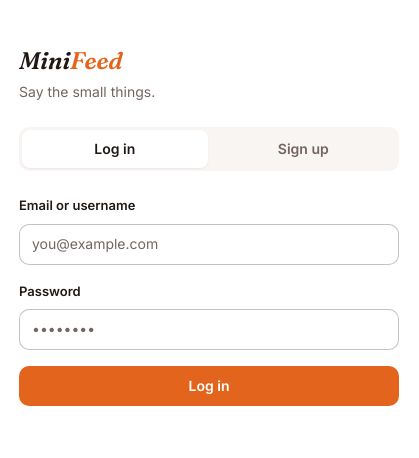
Scenario: AuthPage › shows generic error alert on 401 from login
The width and height of the screenshot is (419, 458).
Type "yan@example.com" into the field labelled "Email or username" at (209, 244), box [19,224,399,265]
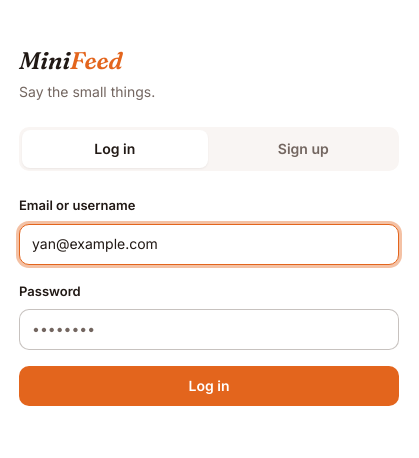
Type "wrongpass" into the password field labelled "Password" at (209, 330), box [19,309,399,350]
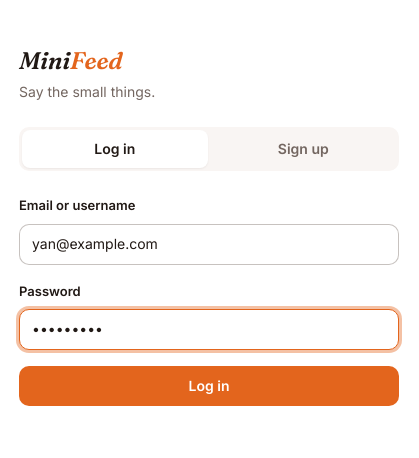
Click the button "Log in" at (209, 386), box [19,366,399,406]
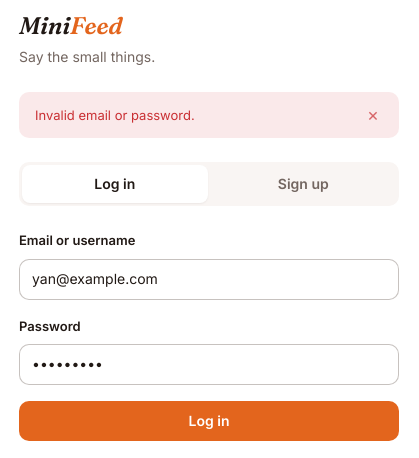
Expected: the message shows "Invalid email or password.", [35,107,195,123]
